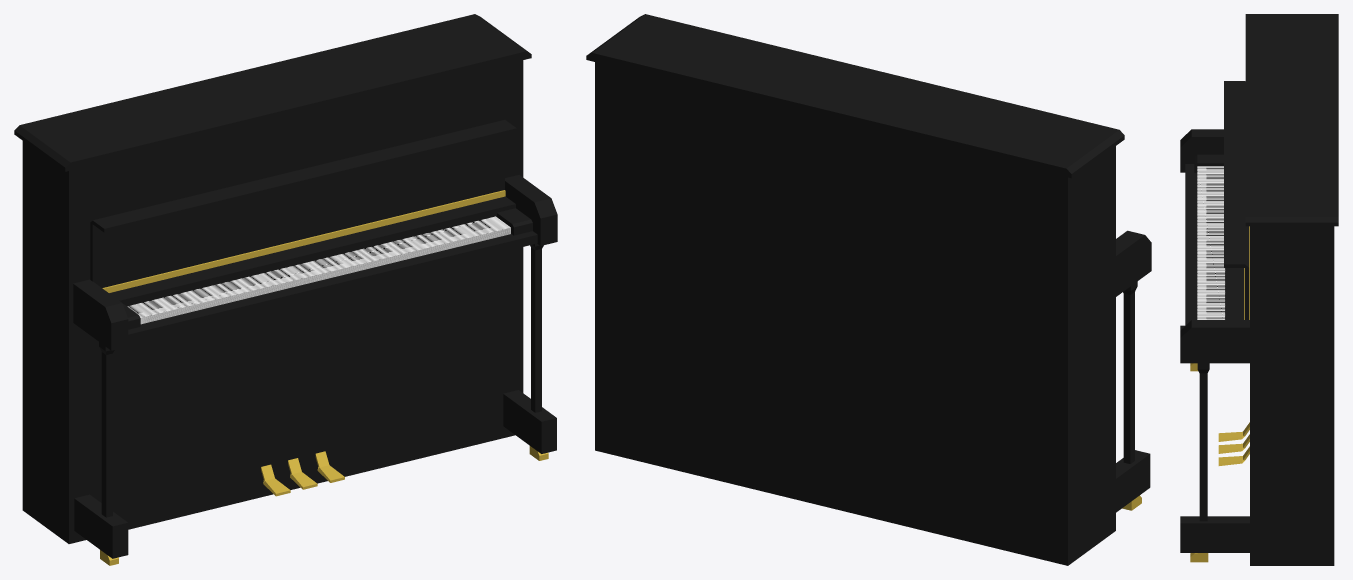
File: piano terbuka.fbx
3 views of the same model, side by side, from view 1: azimuth 30°, elevation 25°; view 2: azimuth 150°, elevation 25°; view 3: azimuth 270°, elevation 25° (orthographic). The views are drawn at different scales.
Visible parts, largest first — view 1: Cube, Cube.009, Cube.001, Cube.013, Cube.004, Cube.007, Cube.002, Cube.003, Cube.008; view 2: Cube, Cube.001, Cube.002; view 3: Cube, Cube.001, Cube.009, Cube.003, Cube.013, Cube.004, Cube.002, Cube.007, Cube.012, Cube.010, Cube.011.
Part boxes in pixels (x1,y1,x2,y2): Cube: (22, 60, 556, 558); Cube.009: (90, 120, 516, 287); Cube.001: (14, 14, 531, 171); Cube.013: (127, 216, 510, 324); Cube.004: (123, 208, 537, 343); Cube.007: (109, 196, 515, 306); Cube.002: (73, 279, 128, 517); Cube.003: (505, 175, 557, 412); Cube.008: (102, 190, 505, 292); Cube: (595, 62, 1150, 565); Cube.001: (586, 14, 1124, 178); Cube.002: (1116, 230, 1151, 463); Cube: (1180, 226, 1334, 565); Cube.001: (1245, 14, 1338, 226); Cube.009: (1224, 81, 1249, 319); Cube.003: (1180, 320, 1249, 521); Cube.013: (1197, 166, 1225, 319); Cube.004: (1185, 154, 1223, 325); Cube.002: (1180, 129, 1223, 172); Cube.007: (1225, 268, 1244, 319); Cube.012: (1218, 446, 1249, 465); Cube.010: (1218, 434, 1249, 453); Cube.011: (1218, 422, 1249, 441).
Bounding box in the file's own units: 259 × 204 × 83.62.
